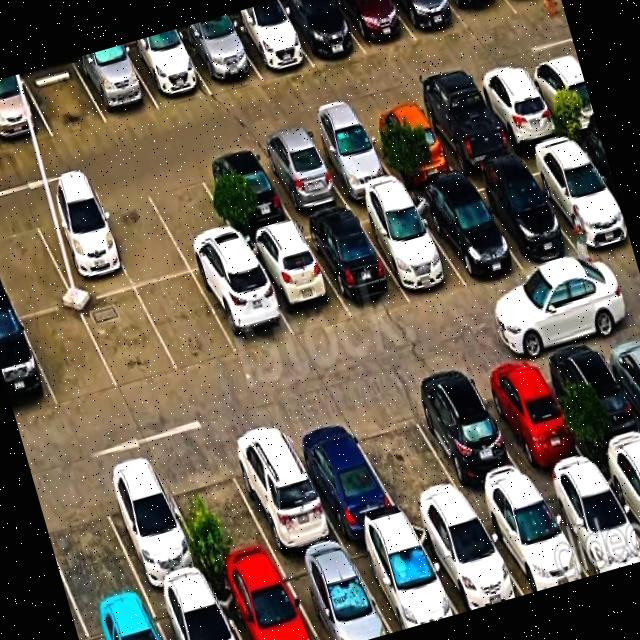empty: (155, 445, 278, 580), (343, 392, 470, 520), (37, 477, 145, 617), (142, 165, 245, 272), (90, 183, 190, 287), (79, 288, 179, 390), (136, 273, 237, 372), (20, 305, 118, 407), (0, 212, 74, 317), (21, 59, 107, 136)
occupied: (402, 371, 534, 506), (220, 421, 342, 560), (468, 353, 594, 486), (91, 460, 211, 597), (281, 410, 403, 541), (540, 334, 640, 465), (408, 181, 523, 287), (244, 226, 351, 339), (462, 164, 576, 270), (475, 488, 589, 594), (519, 142, 629, 251), (345, 525, 457, 632), (299, 210, 408, 319), (353, 196, 467, 299), (411, 509, 523, 613), (30, 197, 134, 303), (277, 546, 392, 640), (537, 471, 640, 575), (193, 258, 294, 354), (413, 85, 515, 173), (196, 149, 294, 239), (253, 134, 349, 220), (303, 119, 400, 203), (359, 102, 457, 184), (212, 564, 317, 640), (472, 68, 566, 150), (72, 46, 159, 123), (122, 34, 211, 109), (225, 8, 313, 80), (522, 53, 597, 134), (178, 21, 261, 94), (275, 0, 365, 67), (0, 315, 57, 420), (149, 582, 239, 640), (334, 0, 416, 55), (593, 321, 640, 411), (0, 73, 52, 151), (574, 134, 622, 213), (82, 599, 166, 640), (599, 455, 640, 534), (391, 0, 467, 41), (447, 0, 517, 30)
